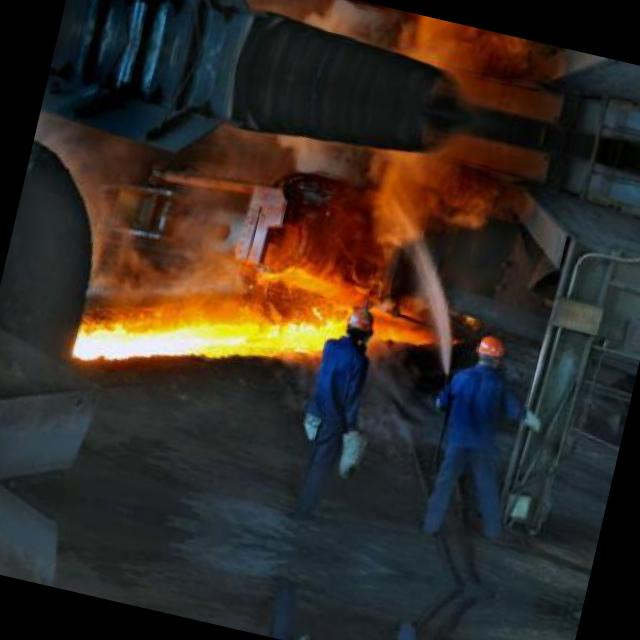helmet: (339, 300, 375, 348), (468, 331, 508, 374)
